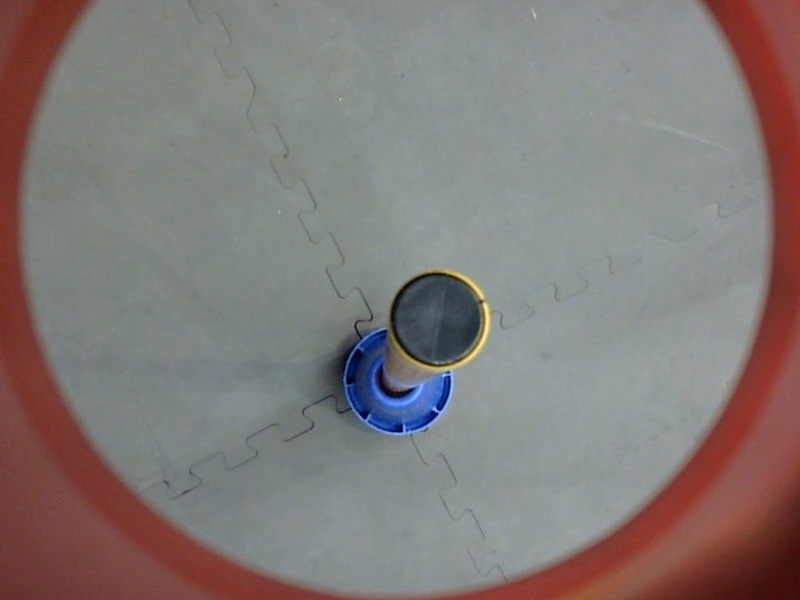tip: (383, 265, 494, 372)
